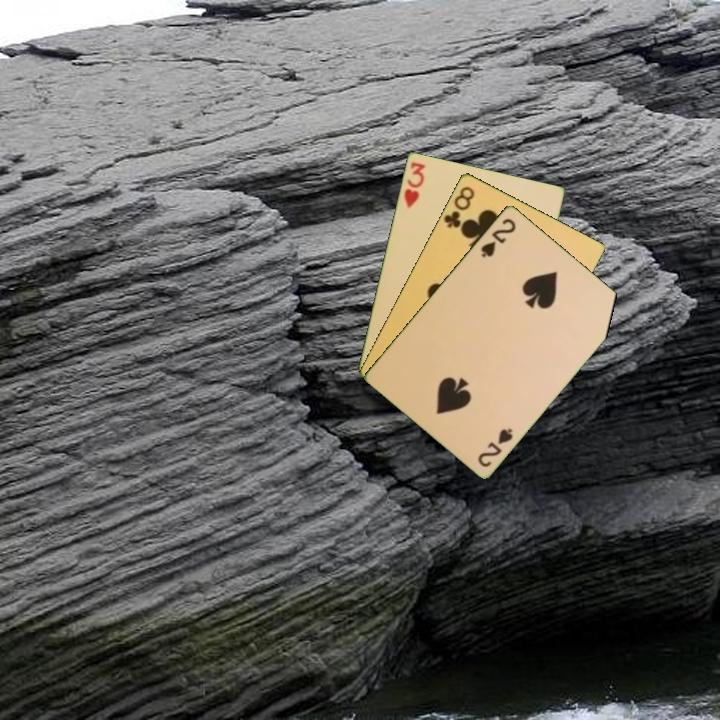2s: (477, 214, 519, 260), (474, 424, 516, 470)
3h: (400, 158, 428, 211)
8c: (440, 182, 477, 231)
